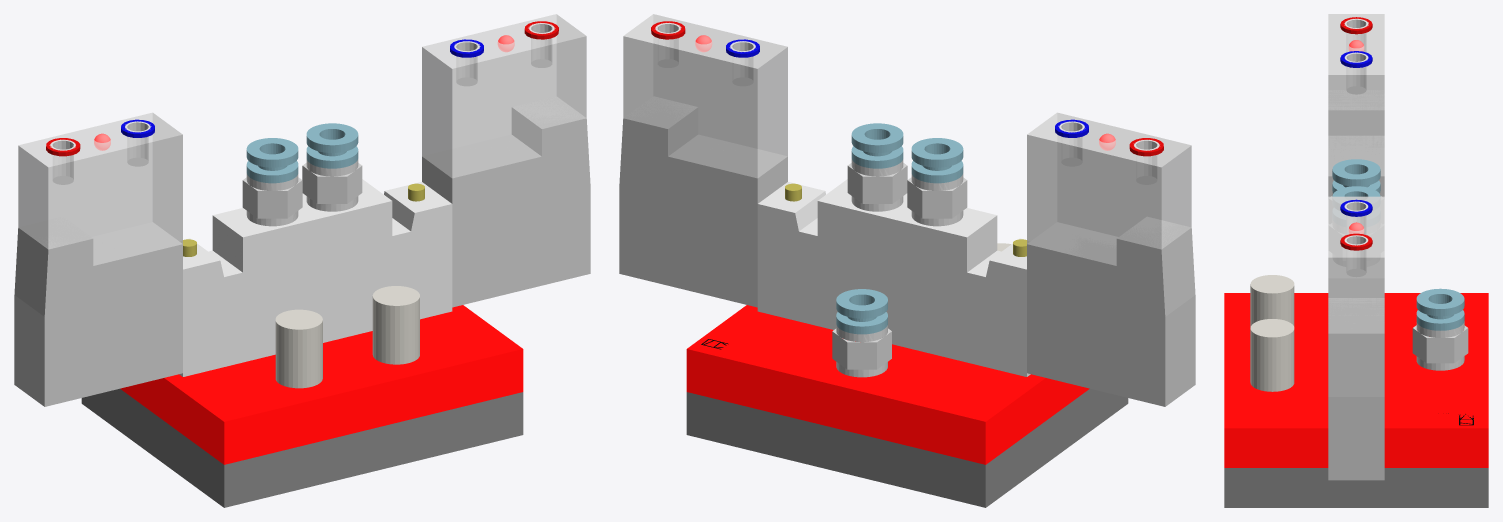
File: valve-5-2-double.glb
3 views of the same model, side by side, from view 1: azimuth 30°, elevation 25°; view 2: azimuth 150°, elevation 25°; view 3: azimuth 270°, elevation 25° (orthographic). The views are drawn at different scales.
Parts seen in each view (by area): view 1: Body__go1096__mesh5, Body__go1096__mesh4, Body__go1096__mesh8, Body__go1096__mesh9, Body__go1096__mesh0, Body__go1096__mesh3, Body__go1096__mesh6, Body__go1096__mesh7, Body__go1096__mesh2, Body__go1096__mesh1; view 2: Body__go1096__mesh5, Body__go1096__mesh4, Body__go1096__mesh8, Body__go1096__mesh9, Body__go1096__mesh0, Body__go1096__mesh6, Body__go1096__mesh7, Body__go1096__mesh2, Body__go1096__mesh1; view 3: Body__go1096__mesh9, Body__go1096__mesh4, Body__go1096__mesh5, Body__go1096__mesh0, Body__go1096__mesh3, Body__go1096__mesh7, Body__go1096__mesh6, Body__go1096__mesh1, Body__go1096__mesh2.
Boxes of the visible parts, x1,y1,x2,y2 form: Body__go1096__mesh5: (14, 96, 590, 406); Body__go1096__mesh4: (18, 14, 586, 265); Body__go1096__mesh8: (179, 179, 452, 376); Body__go1096__mesh9: (120, 305, 523, 464); Body__go1096__mesh0: (81, 388, 523, 507); Body__go1096__mesh3: (275, 286, 419, 388); Body__go1096__mesh6: (242, 159, 362, 226); Body__go1096__mesh7: (246, 123, 358, 183); Body__go1096__mesh2: (121, 39, 483, 166); Body__go1096__mesh1: (46, 21, 558, 184); Body__go1096__mesh5: (619, 96, 1195, 406); Body__go1096__mesh4: (623, 14, 1191, 265); Body__go1096__mesh8: (757, 179, 1030, 376); Body__go1096__mesh9: (686, 305, 1089, 464); Body__go1096__mesh0: (686, 388, 1128, 507); Body__go1096__mesh6: (832, 159, 967, 377); Body__go1096__mesh7: (836, 123, 963, 334); Body__go1096__mesh2: (726, 39, 1088, 166); Body__go1096__mesh1: (651, 21, 1163, 184); Body__go1096__mesh9: (1224, 293, 1488, 467); Body__go1096__mesh4: (1328, 14, 1384, 333); Body__go1096__mesh5: (1328, 90, 1384, 480); Body__go1096__mesh0: (1224, 468, 1488, 507); Body__go1096__mesh3: (1250, 275, 1294, 391); Body__go1096__mesh7: (1332, 159, 1464, 330); Body__go1096__mesh6: (1331, 191, 1468, 370); Body__go1096__mesh1: (1340, 17, 1372, 276); Body__go1096__mesh2: (1340, 51, 1372, 234).
Size of the model in its own units: 0.146 by 0.0853 by 0.066.
Materials: 13 (4 with a texture image).
